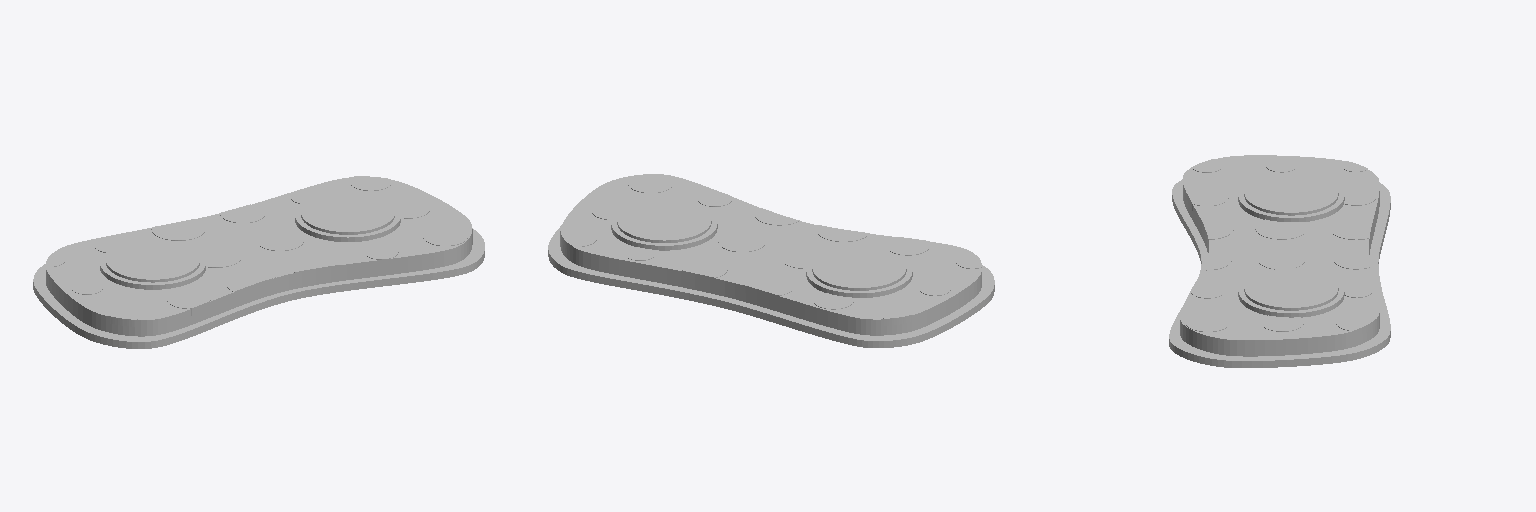
Rendered from VRLabMask.obj.
The picture shows the model from 3 angles: view 1: azimuth 30°, elevation 25°; view 2: azimuth 150°, elevation 25°; view 3: azimuth 270°, elevation 25°; orthographic projection.
Visible parts, largest first — view 1: mask_Curve.002, dots_Curve.003, frame_Curve.001, Pinko_Curve.007, blueo.001_Curve.008, PinkO_Curve.005, blueO_Curve.004; view 2: mask_Curve.002, dots_Curve.003, frame_Curve.001, blueo.001_Curve.008, Pinko_Curve.007, PinkO_Curve.005, blueO_Curve.004; view 3: mask_Curve.002, dots_Curve.003, frame_Curve.001, Pinko_Curve.007, blueo.001_Curve.008, blueO_Curve.004, PinkO_Curve.005.
Part boxes in pixels (x1,y1,x2,y2): mask_Curve.002: (46,177,472,336); dots_Curve.003: (46,176,467,326); frame_Curve.001: (33,229,484,348); Pinko_Curve.007: (301,192,394,234); blueo.001_Curve.008: (106,240,199,282); PinkO_Curve.005: (295,194,400,241); blueO_Curve.004: (100,243,205,289); mask_Curve.002: (560,174,981,335); dots_Curve.003: (561,174,981,325); frame_Curve.001: (548,225,994,347); blueo.001_Curve.008: (812,248,906,290); Pinko_Curve.007: (617,201,711,242); PinkO_Curve.005: (611,203,717,250); blueO_Curve.004: (806,251,912,297); mask_Curve.002: (1180,155,1379,356); dots_Curve.003: (1185,159,1375,337); frame_Curve.001: (1169,179,1390,367); Pinko_Curve.007: (1244,268,1338,310); blueo.001_Curve.008: (1244,173,1338,215); blueO_Curve.004: (1238,175,1344,221); PinkO_Curve.005: (1238,270,1344,317).
Size of the model in its own units: 1.57 by 0.1184 by 0.7575.